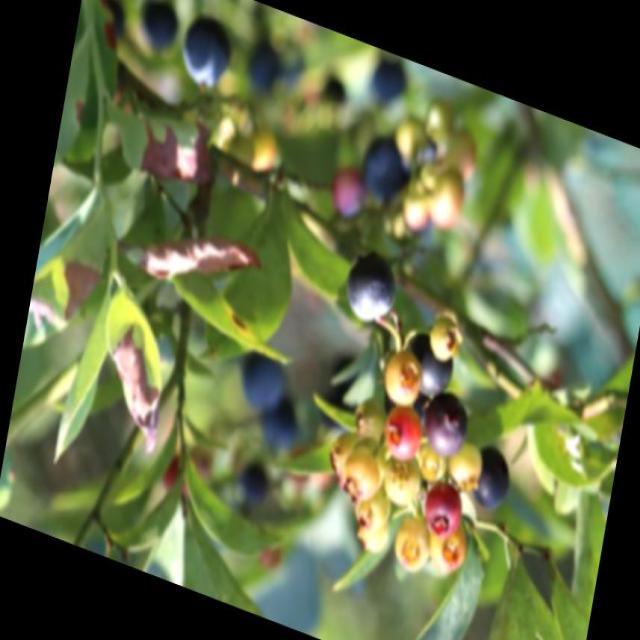blueberry: (340, 243, 403, 334), (172, 7, 234, 95), (401, 327, 460, 407), (418, 380, 474, 462), (466, 436, 516, 517), (238, 342, 288, 417), (359, 129, 407, 202)
blueberry-halfripe: (417, 474, 465, 545), (379, 393, 425, 464), (423, 165, 467, 233), (326, 158, 366, 217)
blueberry-unripe: (349, 490, 396, 561), (386, 508, 433, 577), (378, 344, 423, 415), (422, 514, 470, 580), (444, 433, 486, 498), (376, 452, 420, 514), (338, 442, 379, 506), (424, 305, 463, 368), (413, 437, 450, 490)
